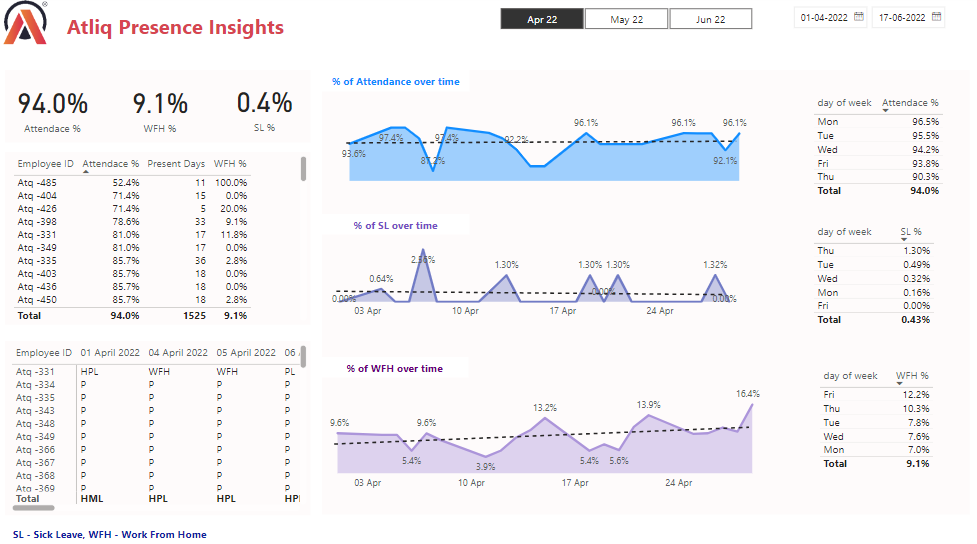

Layout of this report page (visuals, bound fields, positions):
{"tool":"powerbi","page":{"name":"Presence Insights","canvas":[1280,720],"ordinal":0},"visuals":[{"type":"textbox","box":[7.8,205.6,399.9,225.5],"z":0},{"type":"textbox","box":[7.8,453.3,399.8,227.6],"z":1000},{"type":"textbox","box":[422.3,97.9,848.1,582.3],"z":2000},{"type":"textbox","box":[7.8,98,399.9,95.4],"z":3000},{"type":"tableEx","fields":{"Values":["Final Data.Employee ID","Measures (2).Attendace %","Measures (2).Present Days","Measures (2).WFH %"]},"box":[12.6,205.2,394.9,225.7],"z":4000},{"type":"slicer","fields":{"Values":["Final Data.Date"]},"box":[1027.3,5.2,252.7,46.3],"z":5000},{"type":"slicer","fields":{"Values":["Final Data.MMM YY"]},"box":[630.4,10.5,379.5,35.8],"z":6000},{"type":"areaChart","fields":{"Category":["Final Data.MMM YY","Final Data.Date"],"Y":["Measures (2).WFH %"]},"box":[420.7,502.3,589,153.5],"z":7000},{"type":"areaChart","fields":{"Category":["Final Data.WeekNo","Final Data.Date"],"Y":["Measures (2).Attendace %"]},"box":[444.1,144.9,540.4,103.2],"z":8000},{"type":"card","fields":{"Values":["Measures (2).Attendace %"]},"box":[7.8,98,124,96.3],"z":9000},{"type":"card","fields":{"Values":["Measures (2).WFH %"]},"box":[141.4,98,138.8,96.3],"z":10000},{"type":"areaChart","fields":{"Category":["Final Data.MMM YY","Final Data.Date"],"Y":["Measures (2).SL %"]},"box":[422.5,307.1,556,124],"z":11000},{"type":"image","box":[0,0,70,71],"z":12000},{"type":"card","fields":{"Values":["Measures (2).SL %"]},"box":[286.3,97.2,121.4,96.3],"z":13000},{"type":"textbox","box":[70.3,0,320.1,71.1],"z":14000},{"type":"textbox","box":[422.4,98.2,192.5,27.5],"z":15000},{"type":"textbox","box":[422.5,286.3,192.6,26.9],"z":16000},{"type":"textbox","box":[422.1,473.7,192.6,27.2],"z":17000},{"type":"pivotTable","fields":{"Rows":["Final Data.Employee ID"],"Columns":["Final Data.Date"],"Values":["Min(Final Data.Value)"]},"box":[11.7,453.3,395.9,227.6],"z":18000},{"type":"textbox","box":[13.6,691.6,289.8,28.2],"z":19000},{"type":"tableEx","fields":{"Values":["Final Data.day of week","Measures (2).Attendace %"]},"box":[1060.9,125.8,209.9,145.7],"z":20000},{"type":"tableEx","fields":{"Values":["Final Data.day of week","Measures (2).SL %"]},"box":[1060.9,294.1,191.7,167.4],"z":21000},{"type":"tableEx","fields":{"Values":["Final Data.day of week","Measures (2).WFH %"]},"box":[1068.7,483.2,170,167.4],"z":22000}]}

Visuals, with their boxes in screenshot pixels (x1, y1, x2, y2), scaled from the page's 1280x720 canvas onto the 977x544 screenshot:
textbox: (left=6, top=155, right=311, bottom=326)
textbox: (left=6, top=342, right=311, bottom=514)
textbox: (left=322, top=74, right=970, bottom=514)
textbox: (left=6, top=74, right=311, bottom=146)
tableEx - Final Data.Employee ID x Measures (2).Attendace %: (left=10, top=155, right=311, bottom=326)
slicer - Final Data.Date: (left=784, top=4, right=976, bottom=39)
slicer - Final Data.MMM YY: (left=481, top=8, right=771, bottom=35)
areaChart - Final Data.MMM YY x Final Data.Date: (left=321, top=380, right=771, bottom=495)
areaChart - Final Data.WeekNo x Final Data.Date: (left=339, top=109, right=751, bottom=187)
card - Measures (2).Attendace %: (left=6, top=74, right=101, bottom=147)
card - Measures (2).WFH %: (left=108, top=74, right=214, bottom=147)
areaChart - Final Data.MMM YY x Final Data.Date: (left=322, top=232, right=747, bottom=326)
image: (left=0, top=0, right=53, bottom=54)
card - Measures (2).SL %: (left=219, top=73, right=311, bottom=146)
textbox: (left=54, top=0, right=298, bottom=54)
textbox: (left=322, top=74, right=469, bottom=95)
textbox: (left=322, top=216, right=469, bottom=237)
textbox: (left=322, top=358, right=469, bottom=378)
pivotTable - Final Data.Employee ID x Final Data.Date: (left=9, top=342, right=311, bottom=514)
textbox: (left=10, top=523, right=232, bottom=543)
tableEx - Final Data.day of week x Measures (2).Attendace %: (left=810, top=95, right=970, bottom=205)
tableEx - Final Data.day of week x Measures (2).SL %: (left=810, top=222, right=956, bottom=349)
tableEx - Final Data.day of week x Measures (2).WFH %: (left=816, top=365, right=945, bottom=492)
